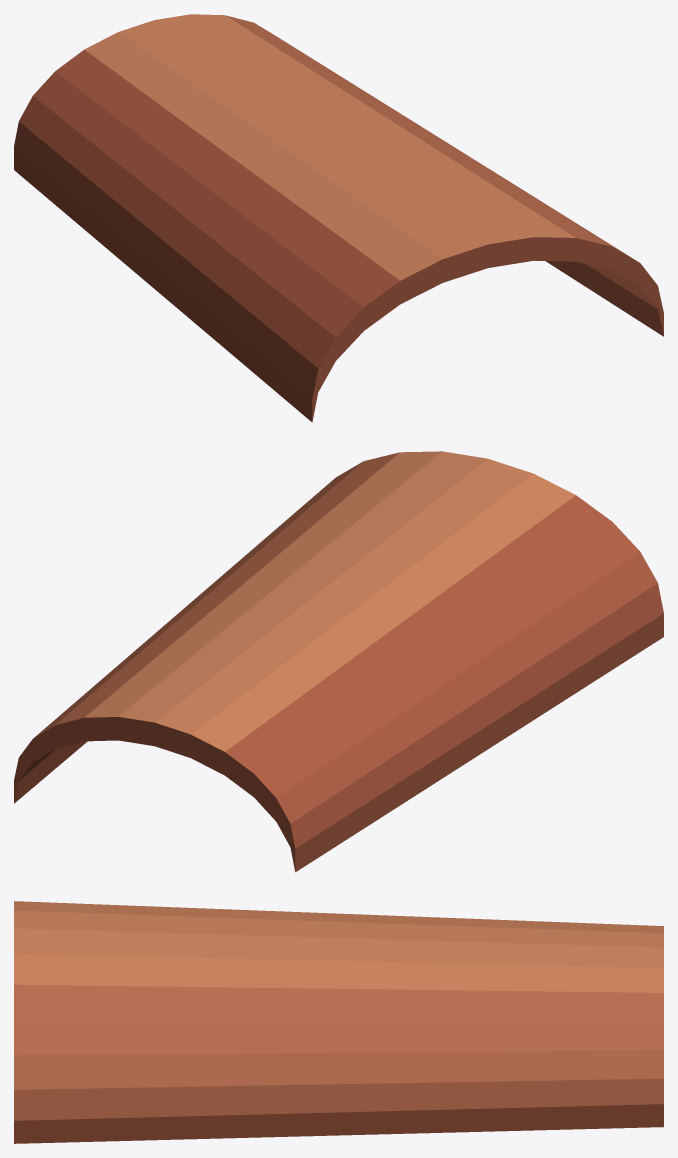
The model's file is ceramic_roof_tile.glb.
3 views of the same model, one above another, from view 1: azimuth 30°, elevation 25°; view 2: azimuth 150°, elevation 25°; view 3: azimuth 270°, elevation 25° (orthographic). The views are drawn at different scales.
Visible parts, largest first — view 1: CeramicTile; view 2: CeramicTile; view 3: CeramicTile.
Part boxes in pixels (box(x1,y1,x2,y2)): CeramicTile: box(14, 14, 663, 422); CeramicTile: box(14, 451, 663, 872); CeramicTile: box(14, 901, 663, 1143).
Size of the model in its own units: 0.28 by 0.103 by 0.46.
